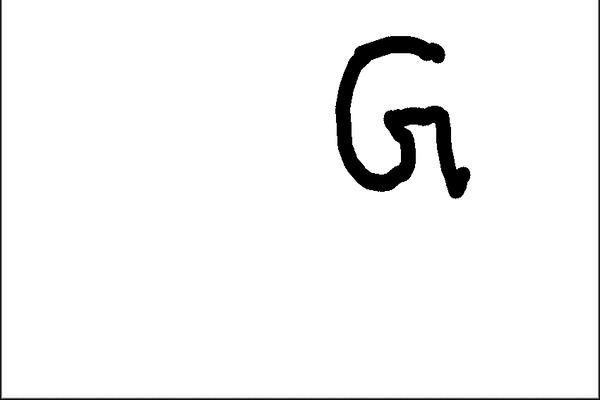G: (330, 33, 474, 207)
